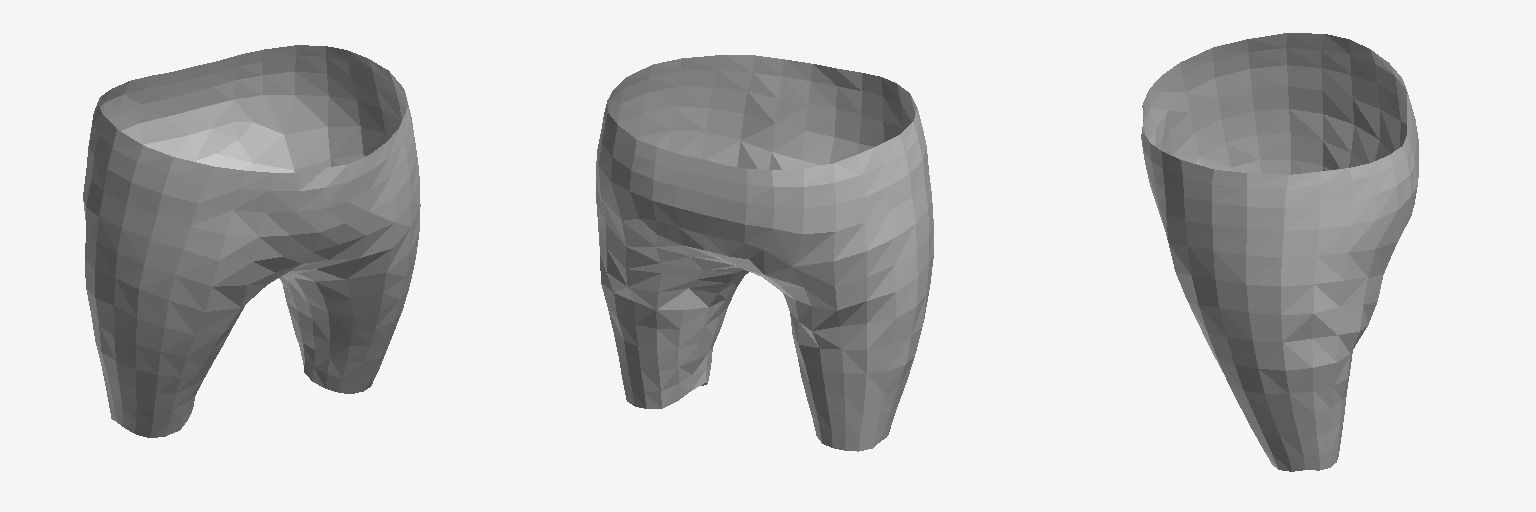
Rendered from pants_low.OBJ.
3 views of the same model, side by side, from view 1: azimuth 30°, elevation 25°; view 2: azimuth 150°, elevation 25°; view 3: azimuth 270°, elevation 25° (orthographic).
Parts seen in each view (by area): view 1: polySurface1; view 2: polySurface1; view 3: polySurface1.
Boxes of the visible parts, box(x1,y1,x2,y2) form: polySurface1: box(83, 45, 420, 437); polySurface1: box(596, 55, 933, 451); polySurface1: box(1141, 33, 1418, 471).
Bounding box in the file's own units: 26.87 × 26.14 × 20.8.